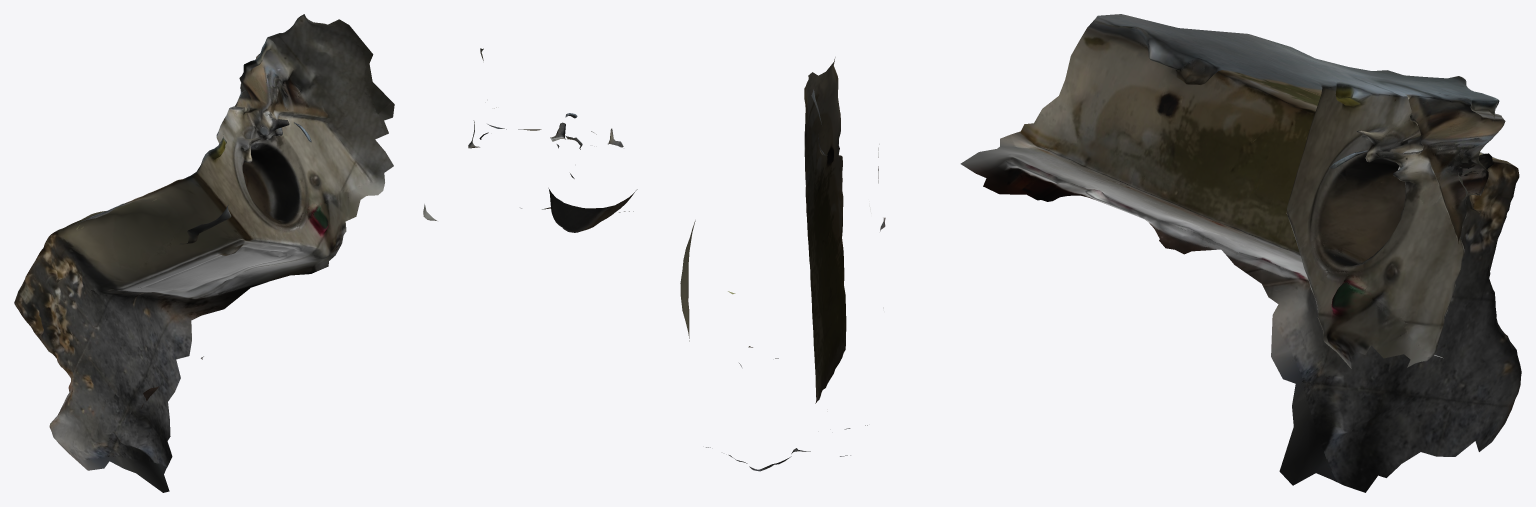
File: model13_prev.glb
3 views of the same model, side by side, from view 1: azimuth 30°, elevation 25°; view 2: azimuth 150°, elevation 25°; view 3: azimuth 270°, elevation 25° (orthographic). The views are drawn at different scales.
Bounding box in the file's own units: 26.08 × 25.93 × 23.85.
1 material, 1 textured.
